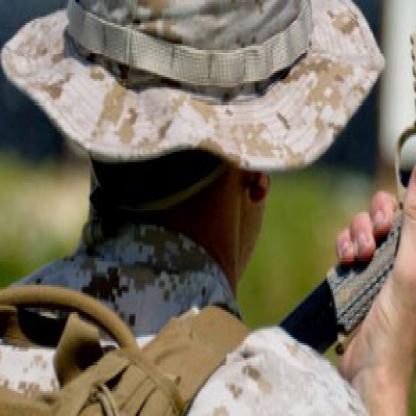gun: (266, 0, 415, 383)
